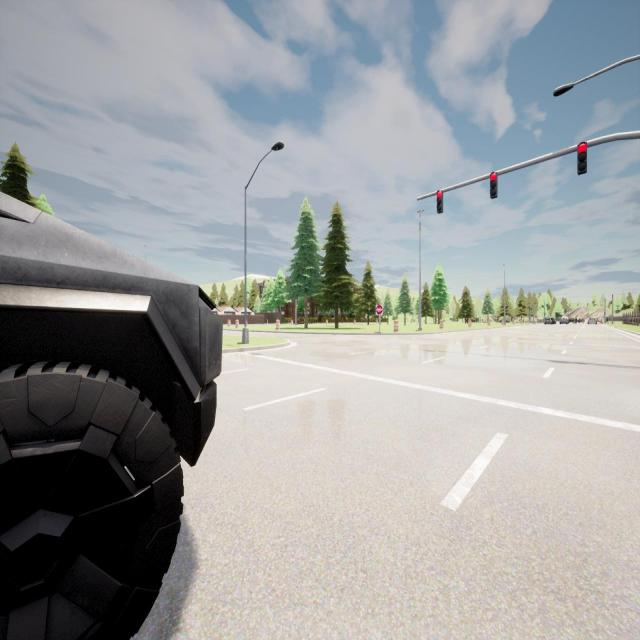Traffic_Signs: (375, 304, 383, 315)
Vehicle: (0, 193, 221, 638), (559, 316, 569, 325), (587, 317, 598, 325), (569, 317, 577, 324), (544, 318, 552, 324), (552, 317, 557, 324)
traffic_light: (577, 142, 587, 175), (490, 172, 498, 198), (437, 191, 443, 214), (611, 300, 612, 304), (604, 312, 605, 315), (577, 304, 578, 306), (587, 304, 588, 306), (570, 304, 570, 306)
